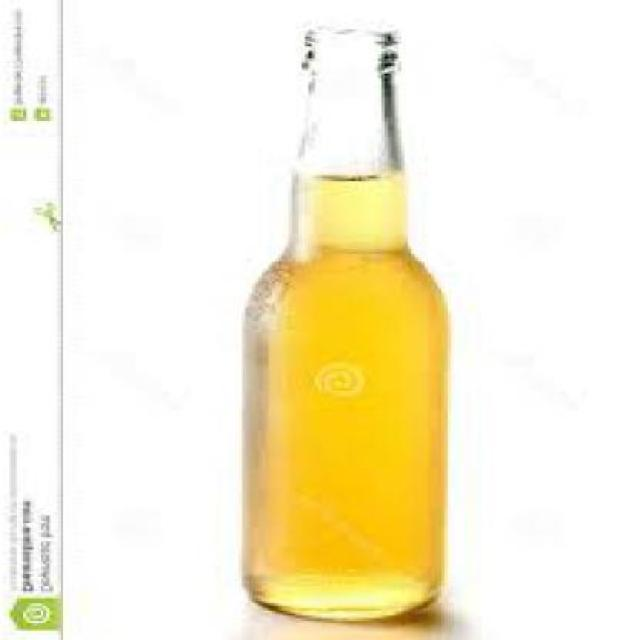GLASS: (242, 20, 455, 620)
